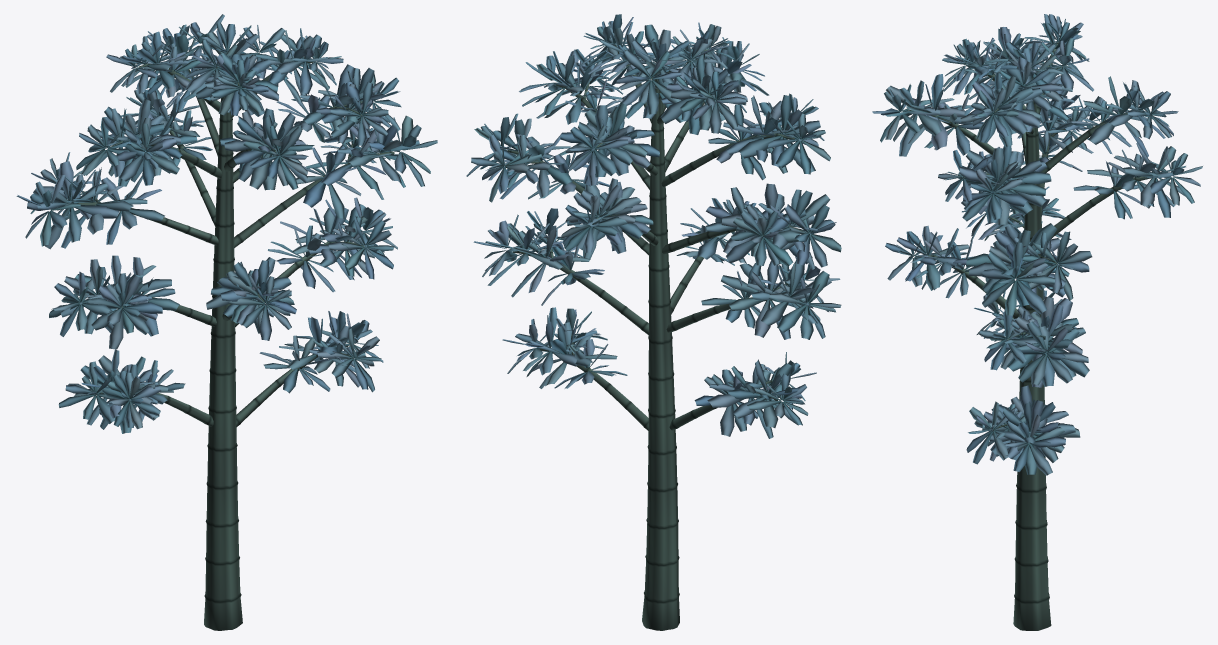
Rendered from blue_alien_tree_optimized_code.glb.
3 renders of one model, left to right at view 1: azimuth 30°, elevation 25°; view 2: azimuth 150°, elevation 25°; view 3: azimuth 270°, elevation 25°, orthographic. The views are drawn at different scales.
Visible parts, largest first — view 1: Blue_Alien_Tree; view 2: Blue_Alien_Tree; view 3: Blue_Alien_Tree.
Part boxes in pixels (x1,y1,x2,y2): Blue_Alien_Tree: (16,14,437,630); Blue_Alien_Tree: (466,14,841,630); Blue_Alien_Tree: (872,14,1202,630).
Bounding box in the file's own units: 3.02 × 4.41 × 2.27.
